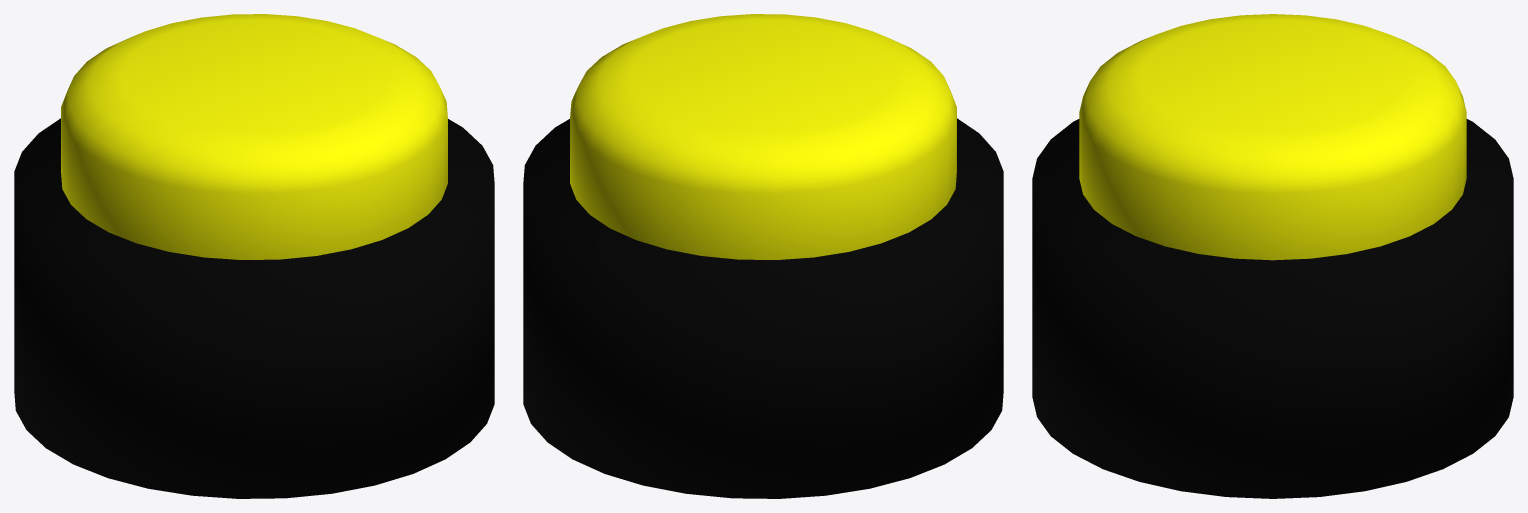
File: PushButton_Yellow.fbx
The picture shows the model from 3 angles, left to right: view 1: azimuth 30°, elevation 25°; view 2: azimuth 150°, elevation 25°; view 3: azimuth 270°, elevation 25°; orthographic projection.
Visible parts, largest first — view 1: ButtonSide, Button; view 2: ButtonSide, Button; view 3: ButtonSide, Button.
Boxes of the visible parts, box(x1,y1,x2,y2) form: ButtonSide: box(14, 118, 494, 498); Button: box(61, 14, 447, 259); ButtonSide: box(523, 118, 1003, 498); Button: box(570, 14, 956, 259); ButtonSide: box(1032, 119, 1513, 498); Button: box(1079, 14, 1466, 260).
Bounding box in the file's own units: 12.42 × 9.14 × 12.42.
